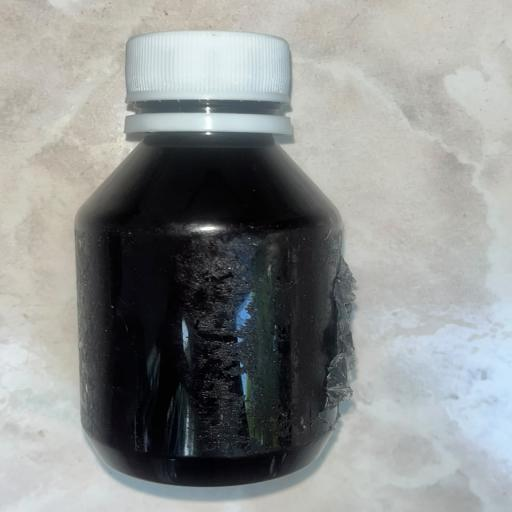HDPE: (60, 19, 415, 505)
